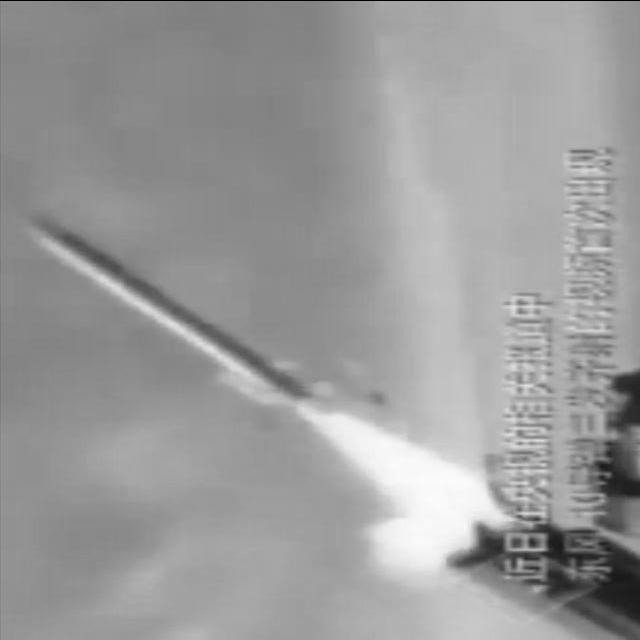Missile: (10, 209, 326, 410)
